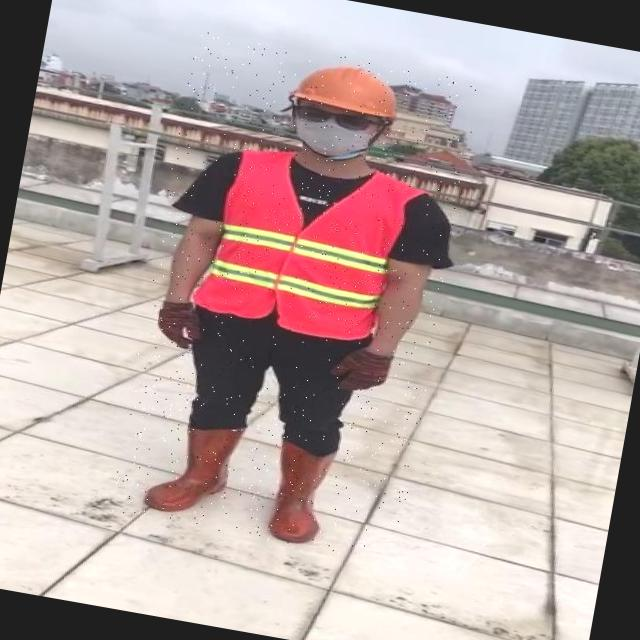boots: (141, 410, 240, 522), (264, 440, 338, 547)
gloves: (324, 338, 409, 407), (156, 286, 218, 355)
helmet: (289, 56, 407, 124)
vest: (192, 141, 418, 346)
